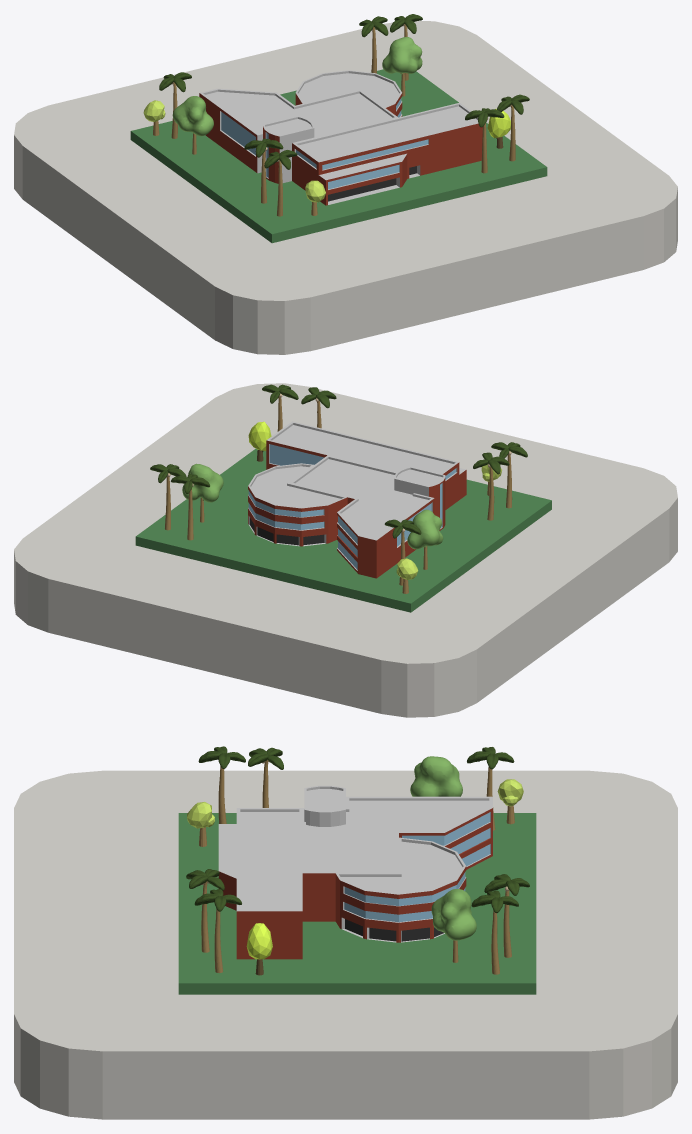
3 renders of one model, top to bottom at view 1: azimuth 30°, elevation 25°; view 2: azimuth 150°, elevation 25°; view 3: azimuth 270°, elevation 25°, orthographic. The views are drawn at different scales.
Visible parts, largest first — view 1: Cube, 餐廳1, Plane.011, Cylinder.021, Cylinder.418, Cylinder.013, Cylinder.035, Cylinder.049, Cylinder.017, Cylinder.010, Cylinder.001, Cylinder.1167; view 2: Cube, 餐廳1, Plane.011, Cylinder.418, Cylinder.021, Cylinder.017, Cylinder.001, Cylinder.005, Cylinder.035, Cylinder.1167, Cylinder.010, Cylinder.013 (+1 smaller); view 3: Cube, 餐廳1, Plane.011, Cylinder.021, Cylinder.418, Cylinder.005, Cylinder.013, Cylinder.001, Cylinder.049, Cylinder.035, Cylinder.1167, Cylinder.017 (+3 smaller).
Part boxes in pixels (x1,y1,x2,y2): Cube: [14, 21, 677, 354]; 餐廳1: [199, 70, 482, 205]; Plane.011: [130, 69, 547, 243]; Cylinder.021: [382, 37, 422, 96]; Cylinder.418: [172, 96, 213, 154]; Cylinder.013: [497, 94, 529, 161]; Cylinder.035: [264, 150, 297, 216]; Cylinder.049: [465, 108, 504, 173]; Cylinder.017: [244, 138, 283, 203]; Cylinder.010: [159, 72, 191, 138]; Cylinder.001: [359, 16, 388, 73]; Cylinder.1167: [487, 108, 510, 148]; Cube: [14, 383, 677, 717]; 餐廳1: [248, 421, 466, 578]; Plane.011: [135, 448, 551, 612]; Cylinder.418: [407, 509, 443, 569]; Cylinder.021: [182, 463, 223, 522]; Cylinder.017: [473, 452, 509, 520]; Cylinder.001: [171, 474, 209, 540]; Cylinder.005: [150, 464, 186, 530]; Cylinder.035: [491, 442, 527, 508]; Cylinder.1167: [248, 421, 271, 461]; Cylinder.010: [384, 519, 421, 585]; Cylinder.013: [262, 384, 298, 431]; Cube: [14, 770, 677, 1119]; 餐廳1: [218, 785, 492, 959]; Plane.011: [178, 813, 536, 994]; Cylinder.021: [431, 889, 476, 962]; Cylinder.418: [410, 756, 462, 796]; Cylinder.005: [471, 890, 518, 974]; Cylinder.013: [194, 889, 241, 973]; Cylinder.001: [484, 874, 529, 957]; Cylinder.049: [186, 869, 224, 952]; Cylinder.035: [198, 746, 245, 823]; Cylinder.1167: [246, 923, 272, 975]; Cylinder.017: [248, 747, 283, 807].
Bounding box in the file's own units: 15 × 3.93 × 15.
